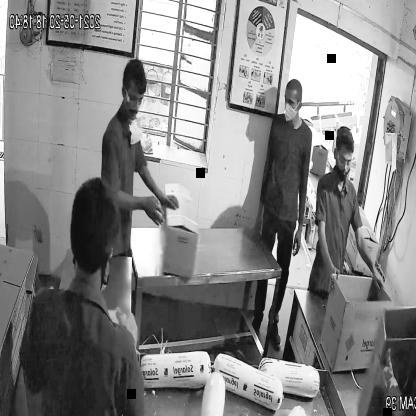goggles: (124, 86, 148, 109), (335, 151, 355, 173)
no_goggles: (281, 95, 305, 109)
